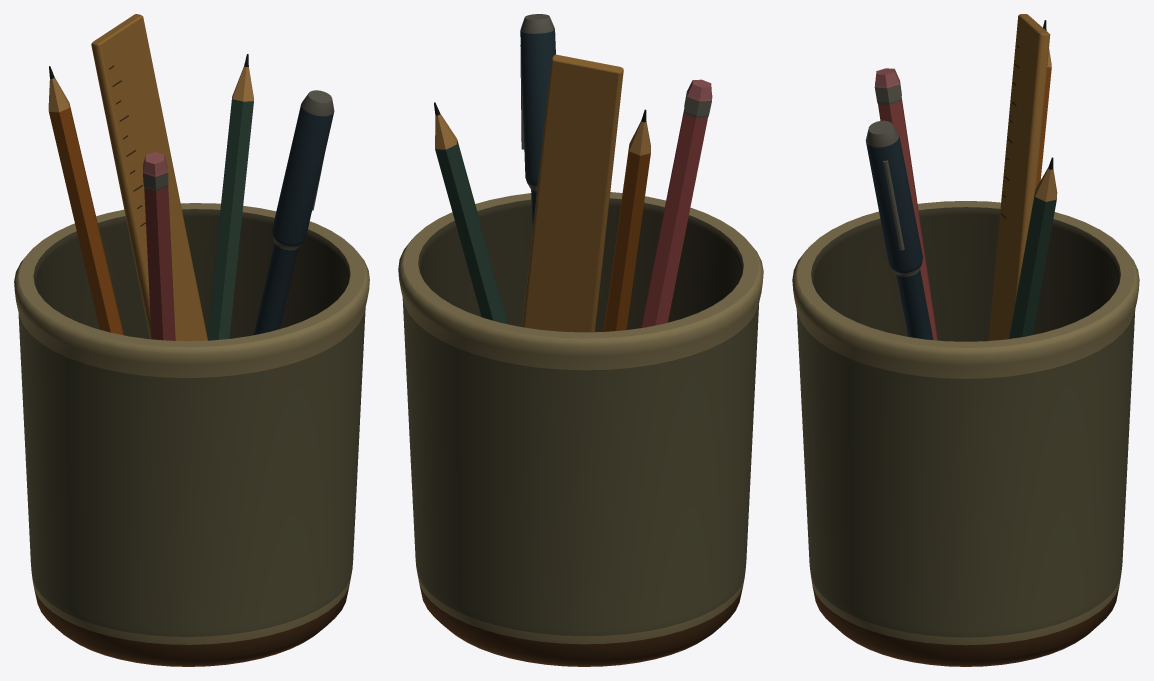
File: SM_StudyPencilCup.fbx
3 renders of one model, left to right at view 1: azimuth 30°, elevation 25°; view 2: azimuth 150°, elevation 25°; view 3: azimuth 270°, elevation 25°, orthographic. The views are drawn at different scales.
Parts seen in each view (by area): view 1: SM_StudyPencilCup; view 2: SM_StudyPencilCup; view 3: SM_StudyPencilCup.
Part boxes in pixels (x1,y1,x2,y2): SM_StudyPencilCup: (14,14,369,666); SM_StudyPencilCup: (398,14,763,666); SM_StudyPencilCup: (792,14,1139,666).
Size of the model in its own units: 0.182 by 0.1767 by 0.3185.
